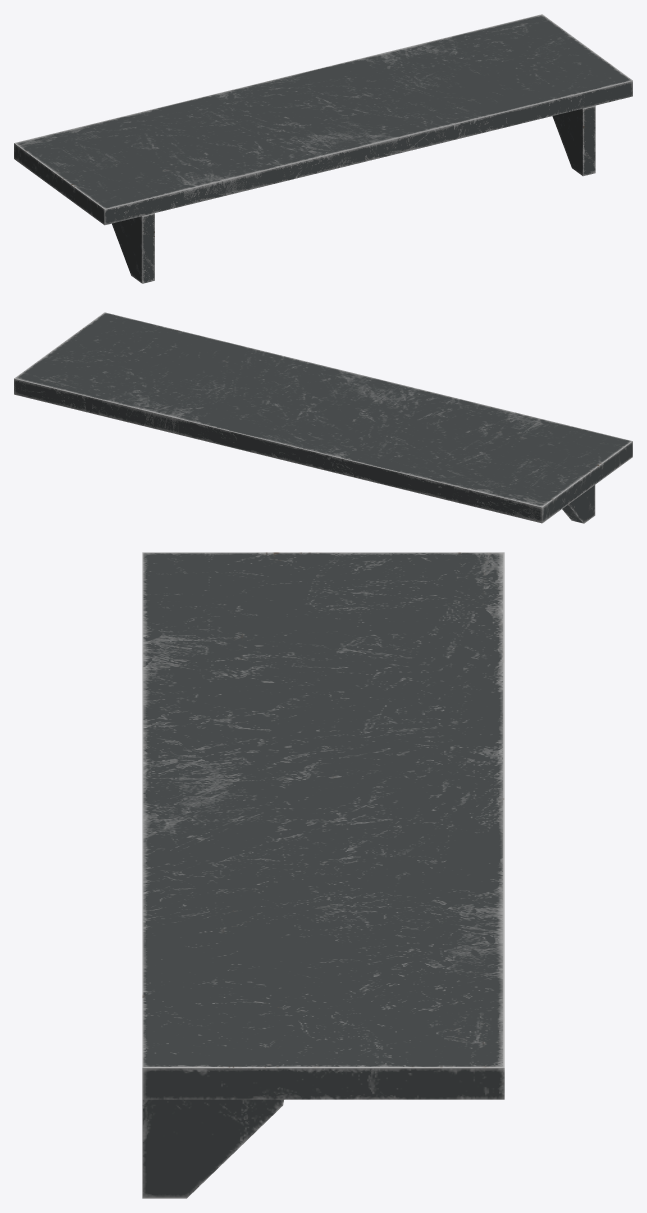
The model's file is office_shelf02_cube.fbx.
The picture shows the model from 3 angles, top to bottom: view 1: azimuth 30°, elevation 25°; view 2: azimuth 150°, elevation 25°; view 3: azimuth 270°, elevation 25°; orthographic projection. The views are drawn at different scales.
Visible parts, largest first — view 1: office_shelf02_cube; view 2: office_shelf02_cube; view 3: office_shelf02_cube.
Part boxes in pixels (box(x1,y1,x2,y2)): office_shelf02_cube: box(14, 14, 632, 283); office_shelf02_cube: box(14, 312, 632, 523); office_shelf02_cube: box(142, 552, 504, 1198).
Bounding box in the file's own units: 3.73 × 0.5641 × 1.11.
